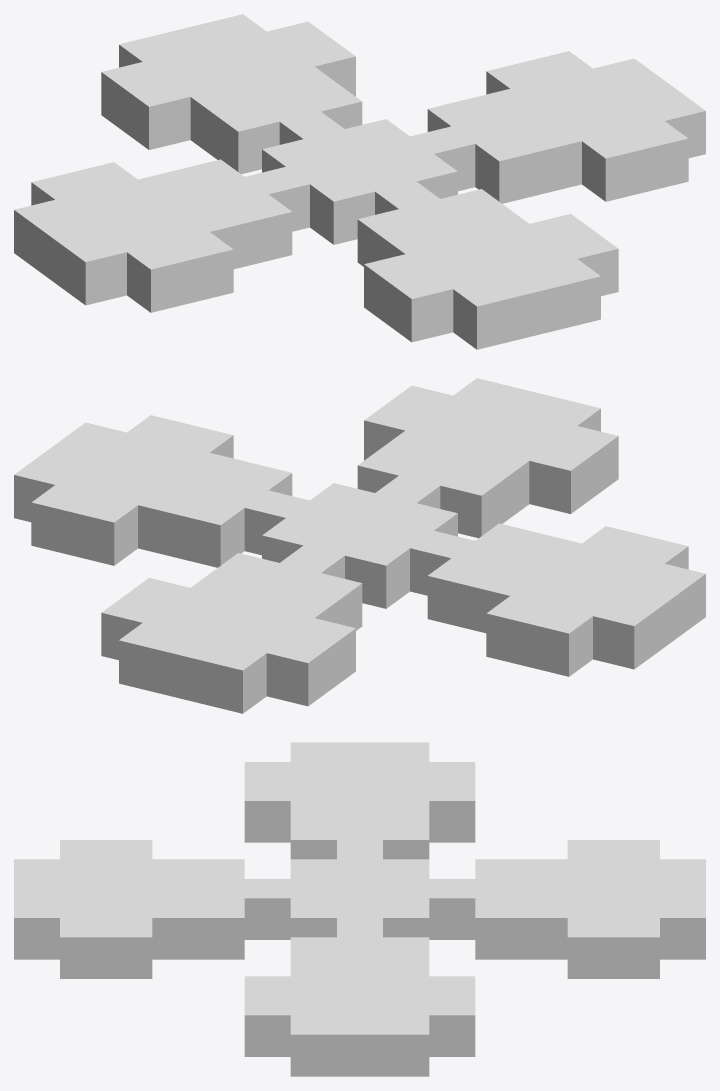
Rendered from wind2.obj.
3 views of the same model, one above another, from view 1: azimuth 30°, elevation 25°; view 2: azimuth 150°, elevation 25°; view 3: azimuth 270°, elevation 25° (orthographic). The views are drawn at different scales.
Bounding box in the file's own units: 15 × 1 × 15.
